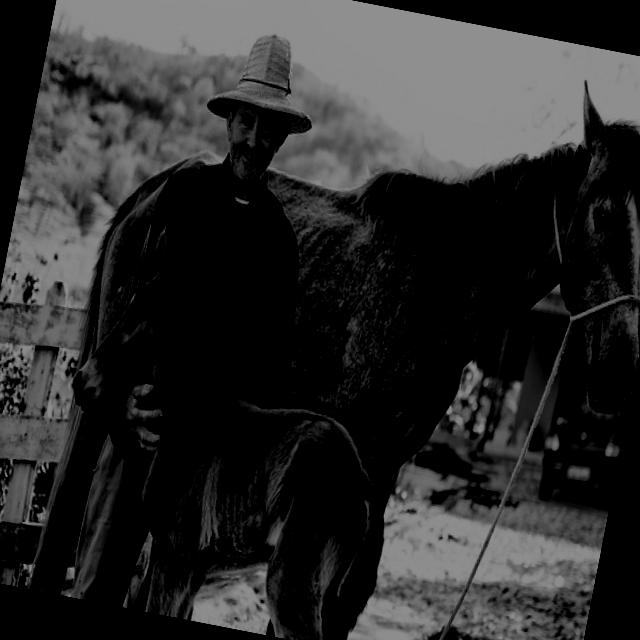Vehicle: (534, 378, 632, 516)
